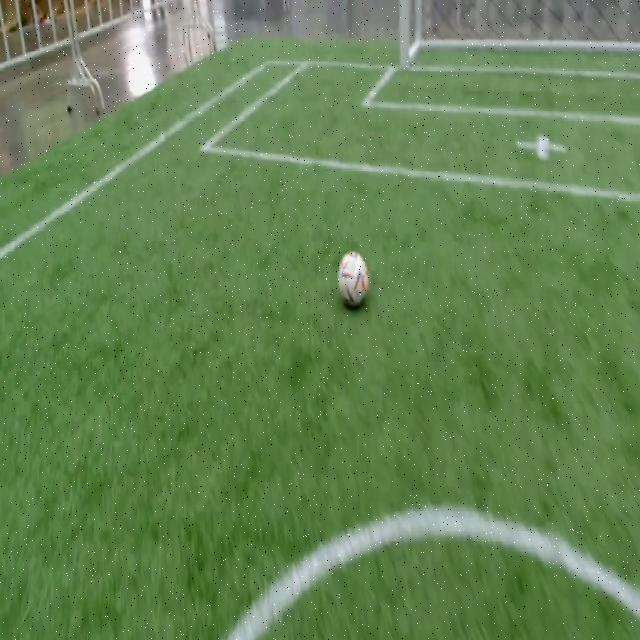ball: (338, 252, 368, 308)
goalpost: (393, 31, 414, 76)
